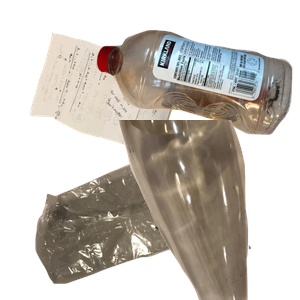glass: (115, 120, 300, 300)
paper: (27, 30, 203, 178)
plastic: (93, 27, 300, 154)
trash: (33, 145, 270, 300)
